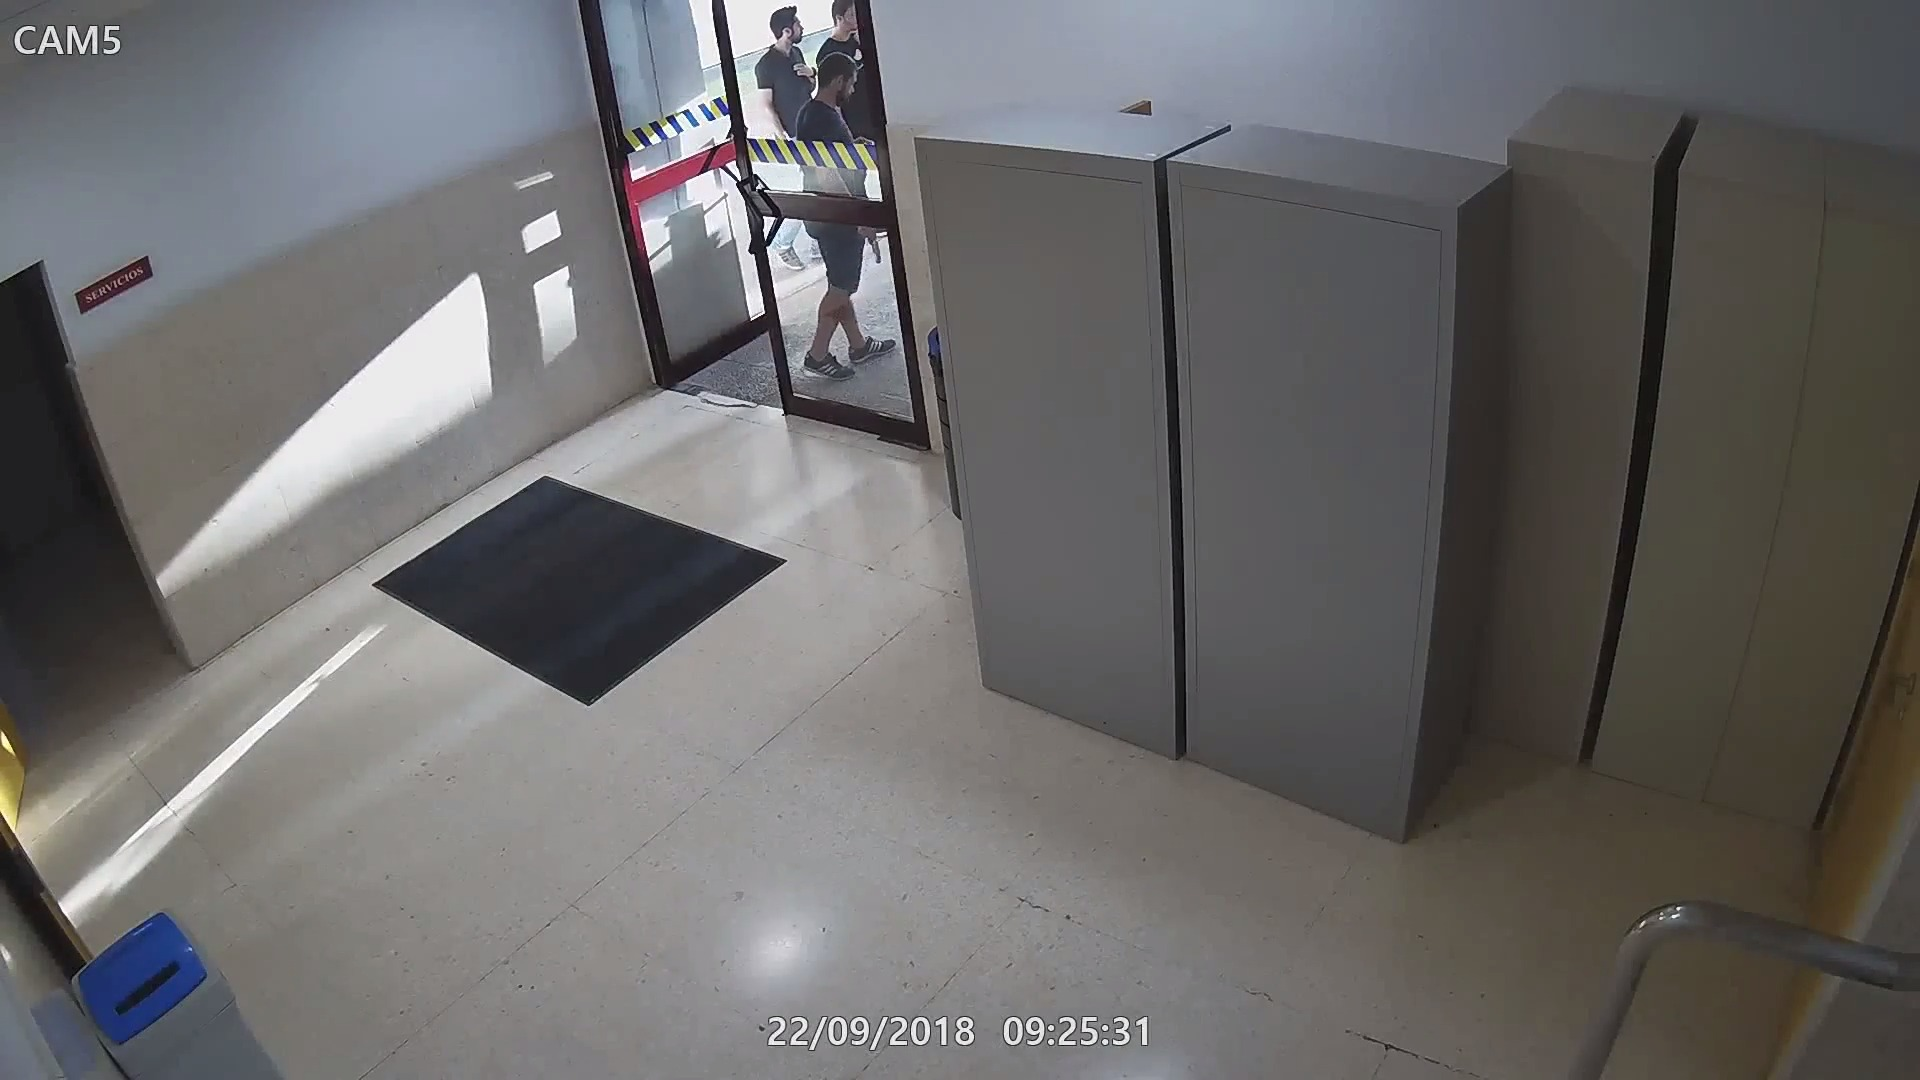Handgun: (852, 224, 887, 258)
